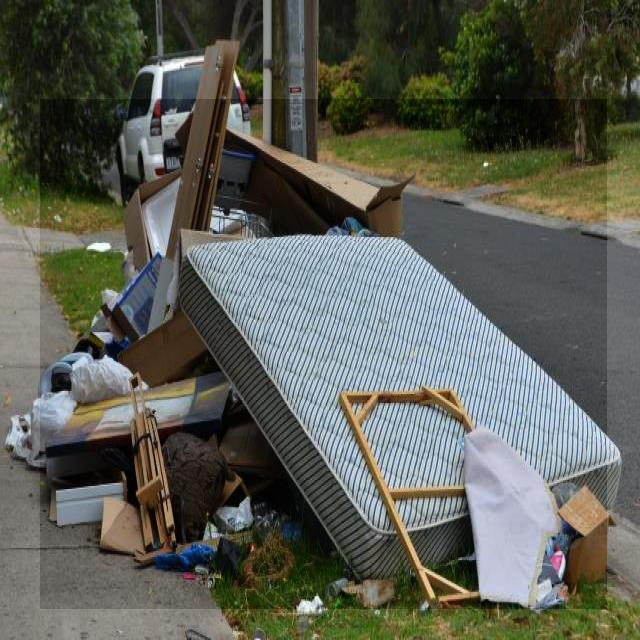dumping: (40, 99, 607, 609)
